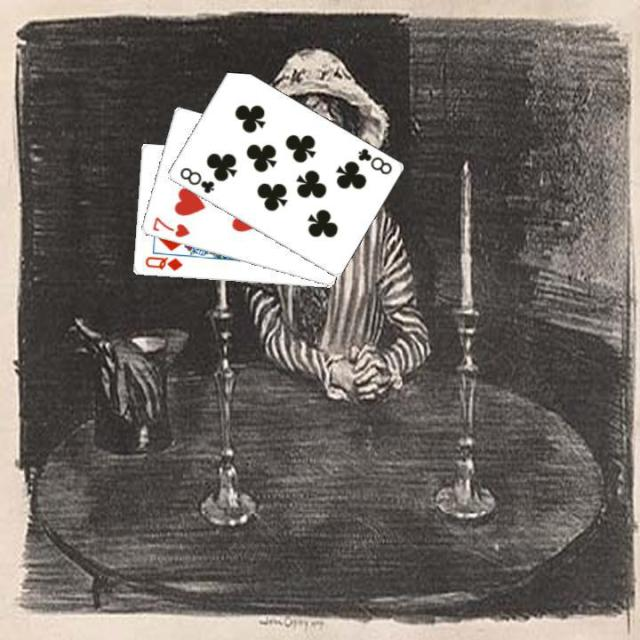7H: (149, 213, 191, 239)
8C: (175, 163, 216, 196), (353, 144, 394, 177)
QD: (141, 252, 184, 273)
